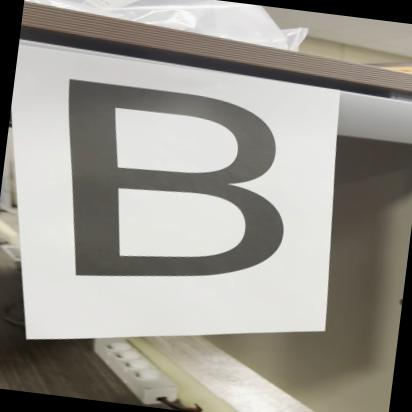seat: (31, 67, 332, 307)
